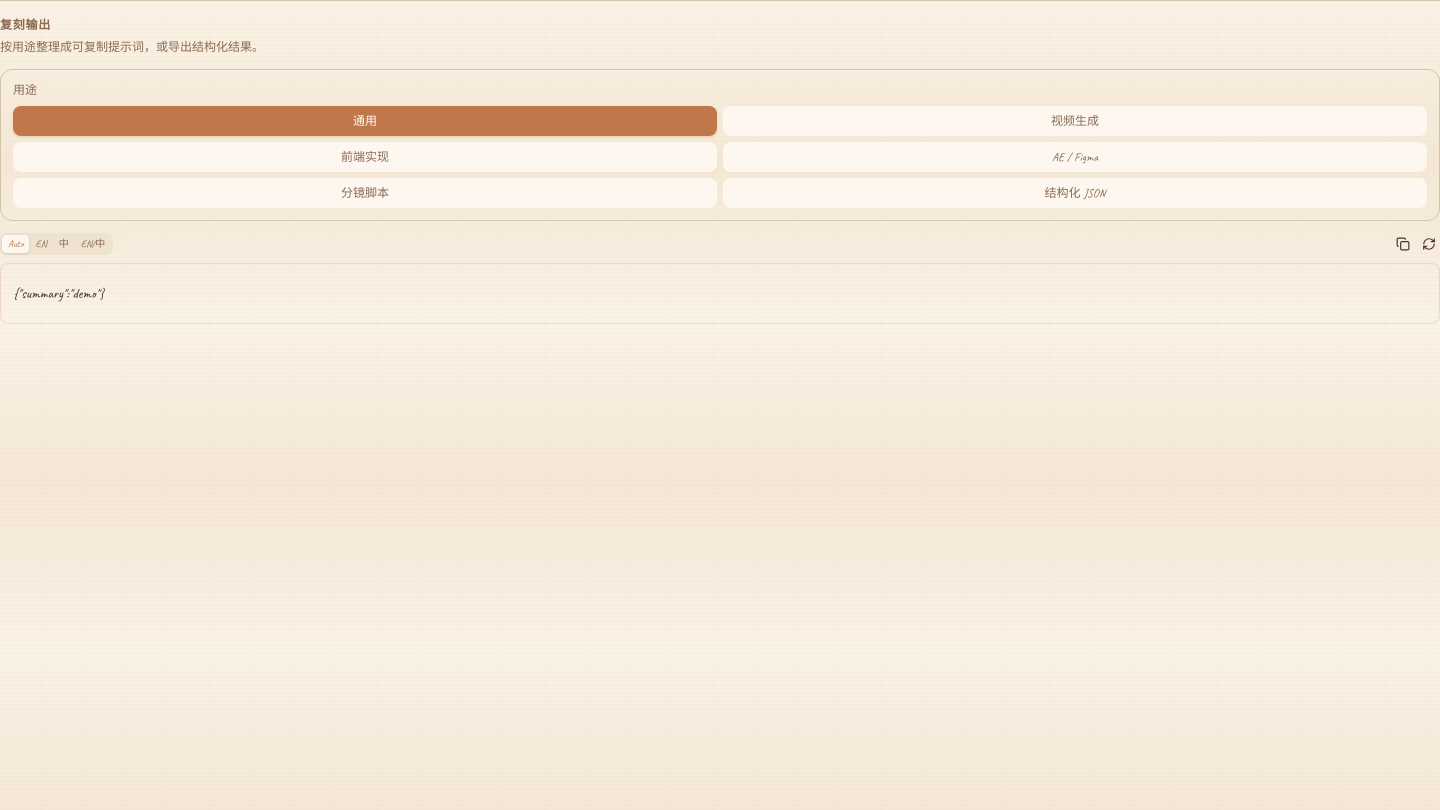
Test: VideoPromptPanel › renders json purpose output in a formatted code view
Click the button "结构化 JSON" at (1075, 193), box [723,178,1427,208]
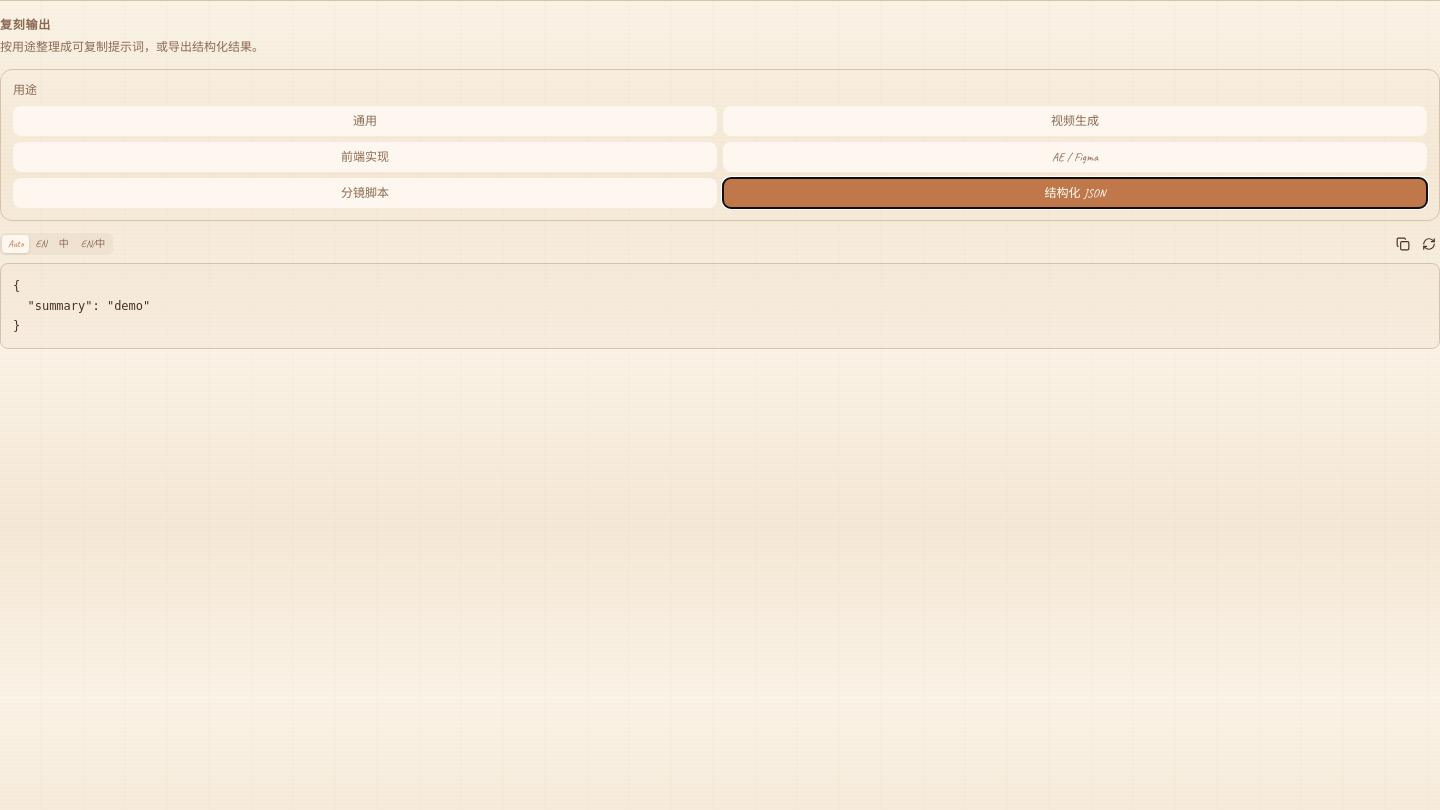
Expected: the text "{ \"summary\": \"demo\" }" is shown, [0,263,1439,349]
